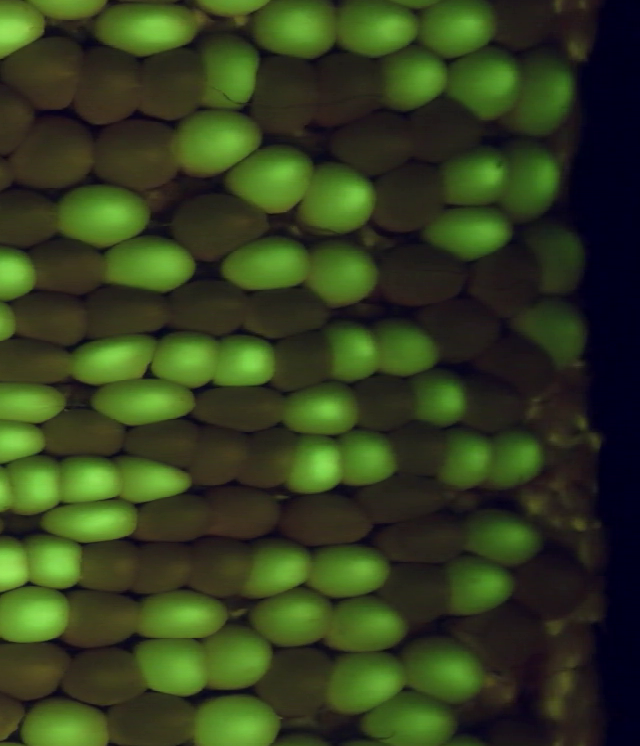fluorescent: (427, 37, 526, 128), (502, 44, 586, 139), (167, 106, 271, 182), (85, 1, 208, 64), (219, 141, 318, 218), (290, 158, 383, 238), (491, 130, 570, 224), (357, 681, 470, 746), (52, 179, 152, 251), (193, 27, 271, 118), (373, 39, 461, 116), (296, 236, 385, 312), (318, 645, 409, 719), (100, 230, 200, 297), (400, 632, 490, 705), (316, 590, 413, 657), (250, 1, 348, 66), (213, 230, 314, 293), (508, 295, 592, 369), (127, 585, 233, 643), (195, 623, 280, 695), (243, 586, 336, 651), (185, 691, 294, 746), (301, 541, 397, 603), (236, 534, 325, 600), (333, 1, 424, 65), (125, 633, 213, 699), (413, 1, 513, 59), (65, 329, 163, 388), (423, 202, 517, 263), (86, 378, 203, 427), (521, 216, 591, 297), (461, 502, 545, 569), (438, 552, 518, 621), (276, 378, 365, 439), (17, 693, 118, 746), (144, 326, 225, 392), (479, 425, 549, 499), (38, 497, 143, 546), (110, 448, 195, 508), (435, 145, 520, 205), (0, 582, 75, 649), (47, 450, 130, 509), (433, 424, 500, 497), (370, 320, 447, 379), (409, 361, 474, 430), (315, 318, 382, 384), (285, 431, 350, 499), (335, 423, 400, 490), (19, 530, 88, 593), (2, 450, 68, 514), (208, 332, 279, 390), (0, 379, 73, 428), (0, 1, 54, 66), (0, 241, 40, 303), (0, 417, 52, 464), (0, 532, 33, 599)
nonfluorescent: (165, 188, 276, 265), (0, 109, 101, 192), (0, 33, 92, 120), (88, 117, 185, 197), (452, 599, 553, 675), (461, 233, 547, 322), (66, 39, 145, 130), (129, 42, 215, 125), (255, 639, 339, 723), (246, 48, 321, 141), (305, 45, 386, 131), (505, 546, 598, 619), (375, 239, 471, 309), (326, 106, 420, 177), (470, 329, 564, 399), (369, 154, 446, 239), (58, 640, 152, 709), (274, 489, 380, 549), (98, 688, 204, 746), (373, 559, 455, 633), (61, 583, 144, 656), (21, 233, 114, 297), (79, 281, 176, 342), (238, 282, 335, 343), (162, 277, 255, 339), (376, 512, 474, 570), (408, 94, 488, 165), (5, 289, 95, 350), (187, 381, 292, 433), (264, 325, 339, 397), (182, 531, 258, 602), (345, 369, 425, 436), (205, 479, 287, 543), (454, 366, 527, 436), (181, 421, 255, 490), (356, 474, 454, 526), (235, 418, 304, 491), (0, 639, 75, 705), (38, 407, 132, 459), (118, 414, 205, 470), (131, 491, 219, 546), (383, 417, 455, 483), (127, 535, 202, 598), (0, 183, 63, 253), (485, 1, 565, 56), (72, 538, 146, 594), (0, 337, 78, 389), (483, 697, 565, 746), (0, 75, 42, 159)
